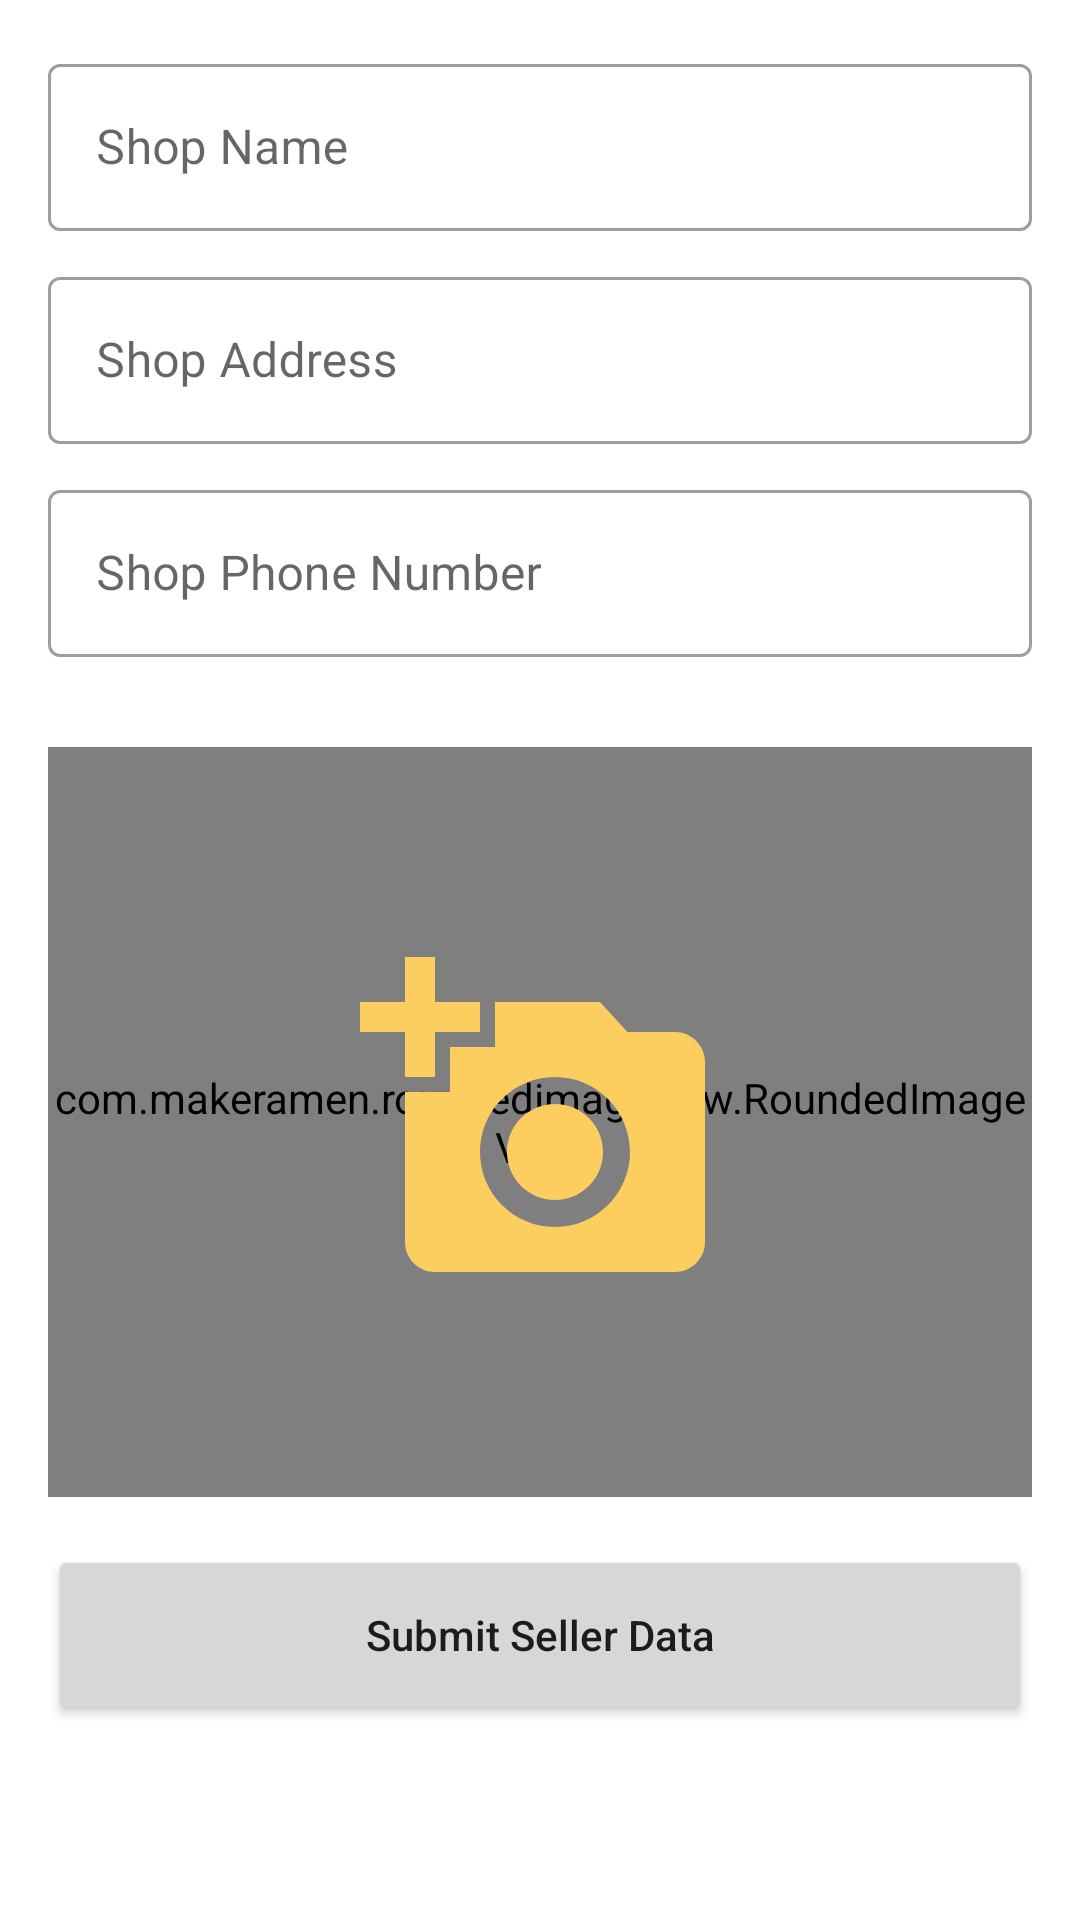

Icon click points for this 1080*1920 phone screenshot, format (x,y):
add photo: (540,1114)
